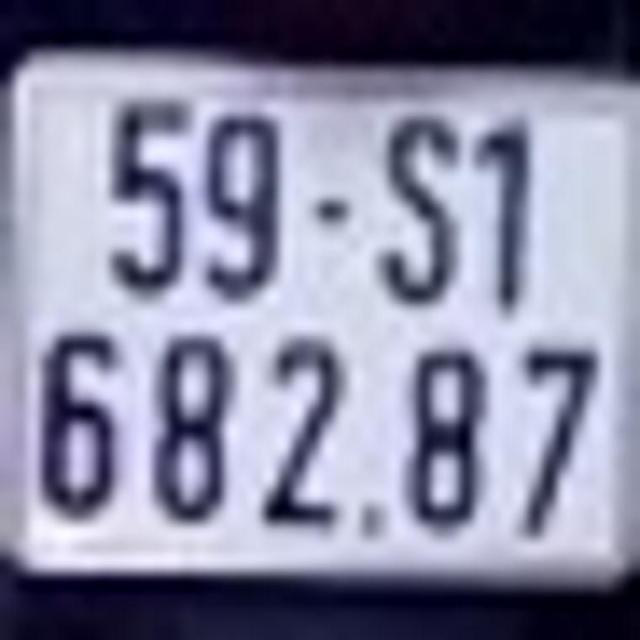1: (476, 113, 534, 313)
2: (269, 321, 342, 530)
5: (108, 92, 184, 290)
6: (38, 338, 117, 514)
7: (525, 346, 599, 540)
8: (152, 336, 226, 522), (411, 342, 481, 530)
9: (202, 104, 276, 302)
S: (386, 106, 464, 301)
